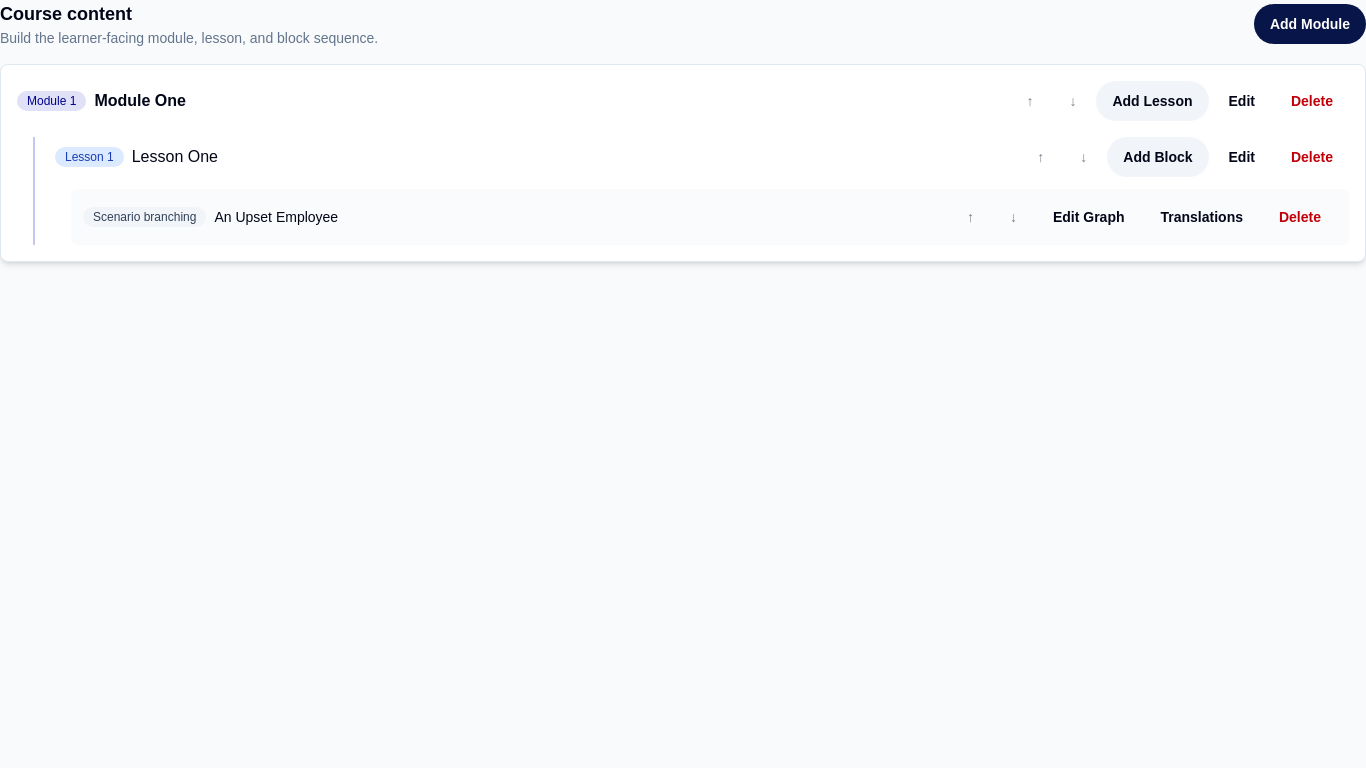
Scenario: MhdTrainingContentTreeEditor › refuses to save an IMAGE block without alt text
The width and height of the screenshot is (1366, 768).
Click the button "Add Block" at (1158, 157), box [1107,137,1208,177]
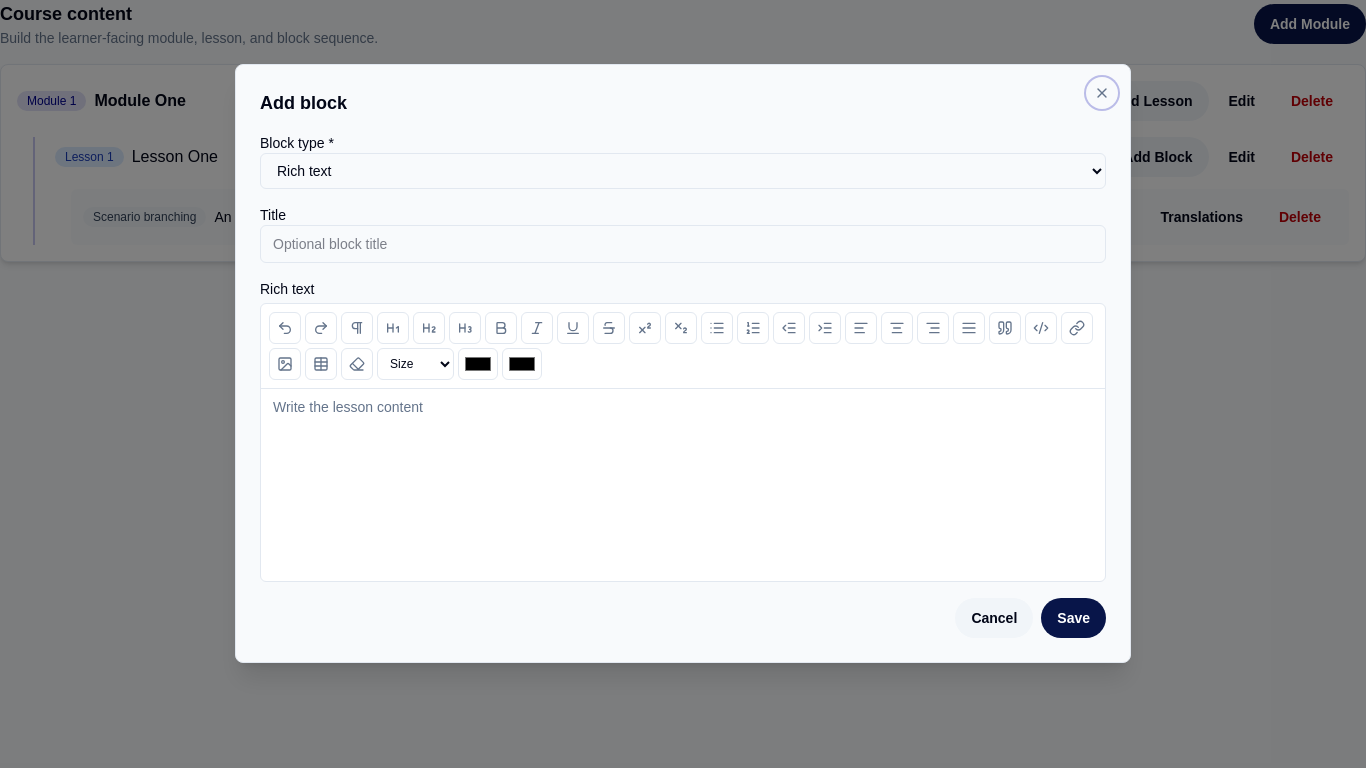
Select "Image" in the dropdown labelled "Block type *" at (683, 171), box [260,153,1106,189]
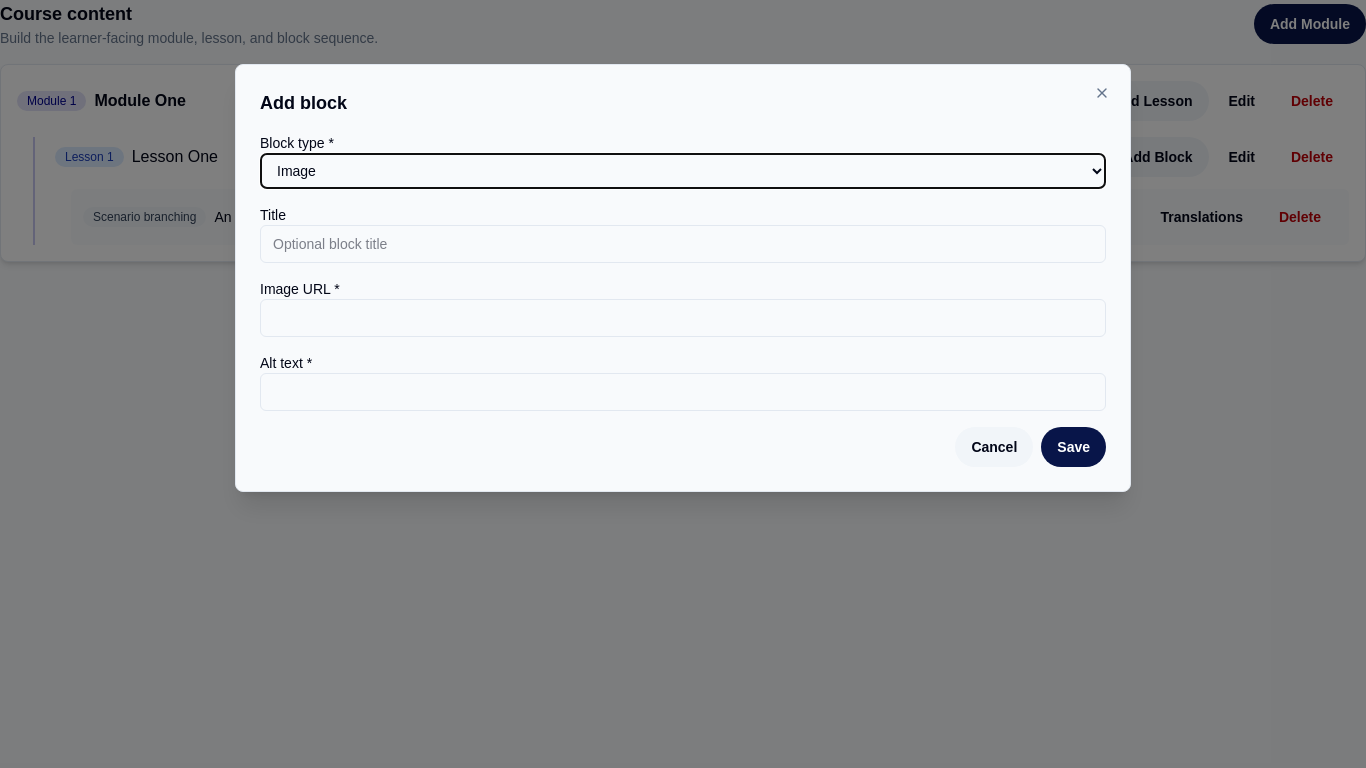
Click the button "Save" at (1074, 447), box [1041,427,1106,467]
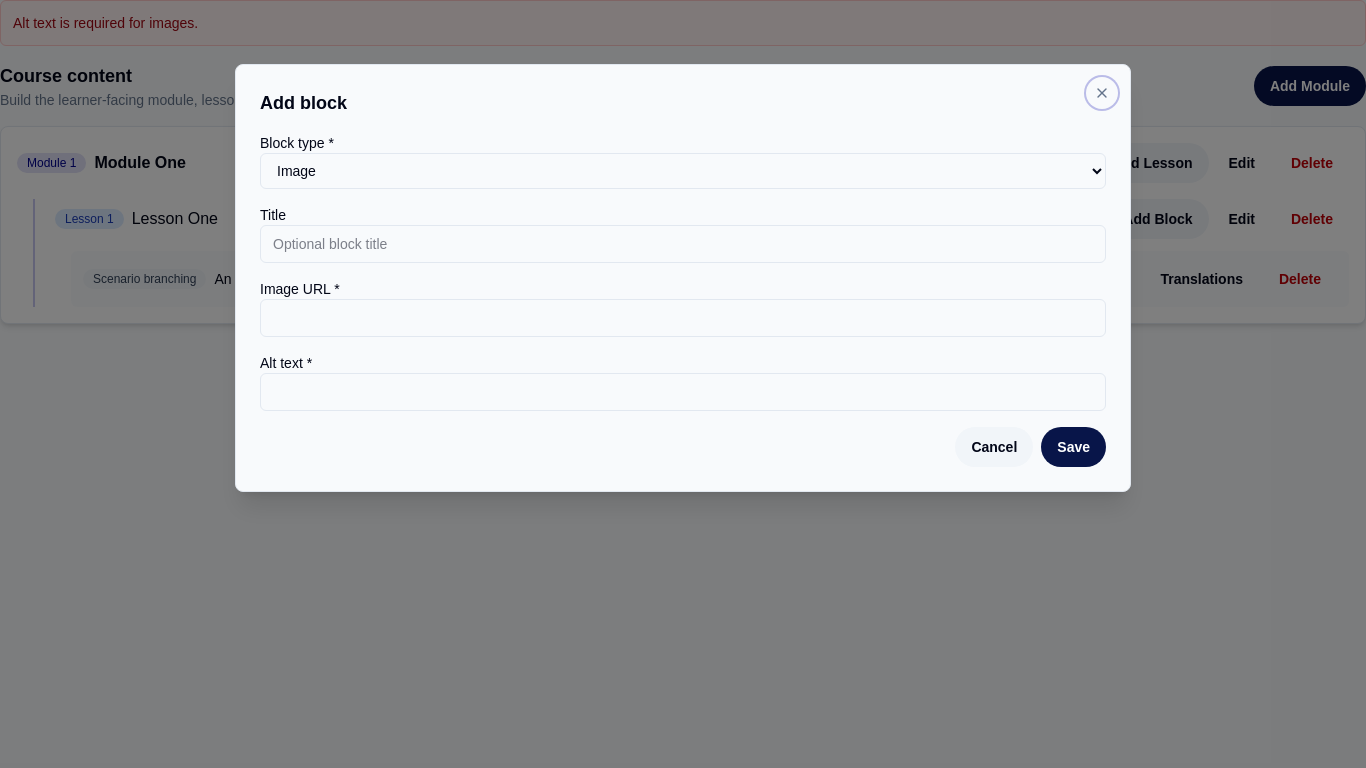
Expected: the message reads "Alt text is required for images.", [13,15,198,31]
